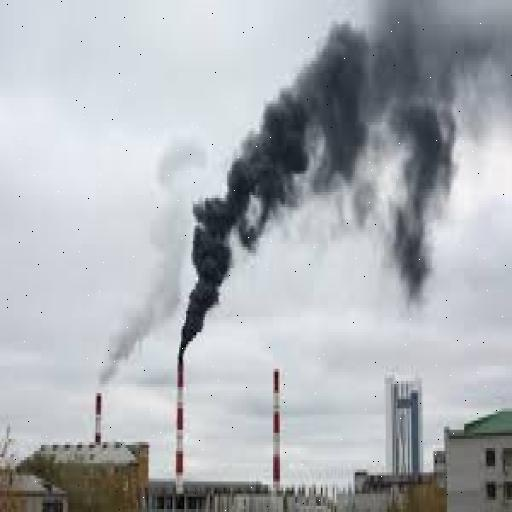smoke: (179, 3, 493, 351)
